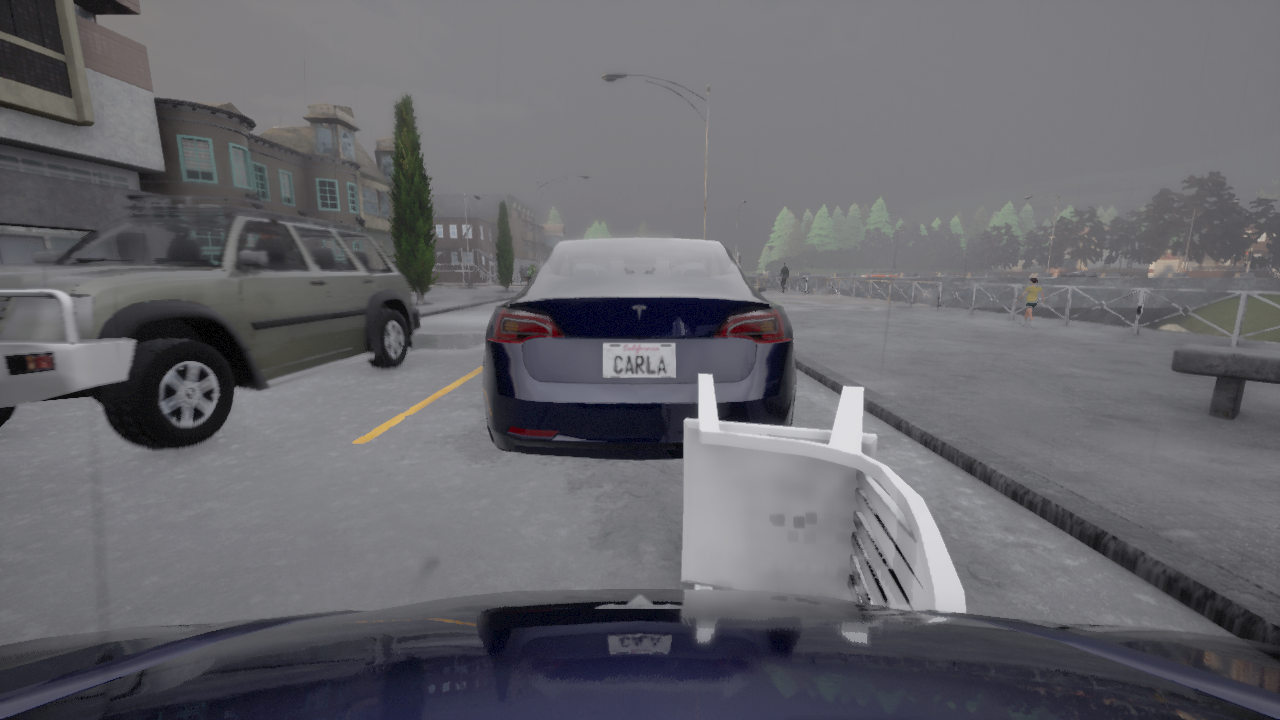cyclist: (0, 588, 1279, 719), (0, 196, 421, 449), (483, 238, 796, 459), (860, 268, 900, 277), (1057, 270, 1103, 277)
pedestrian: (1015, 276, 1044, 328), (779, 262, 789, 292)
